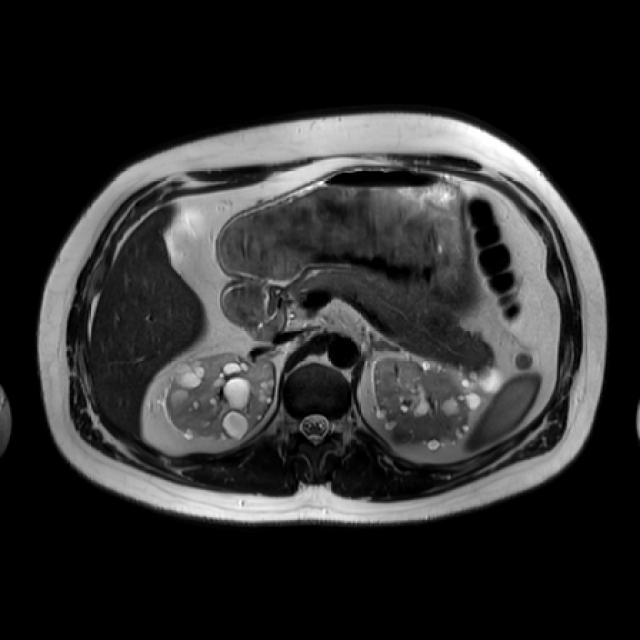sag: (165, 354, 276, 439)
sol: (372, 358, 502, 450)
